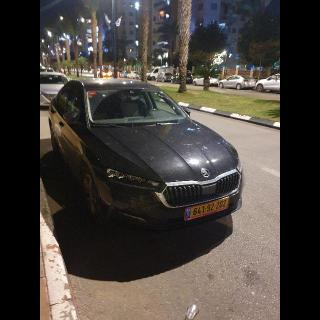LicensePlate: (188, 198, 231, 217)
